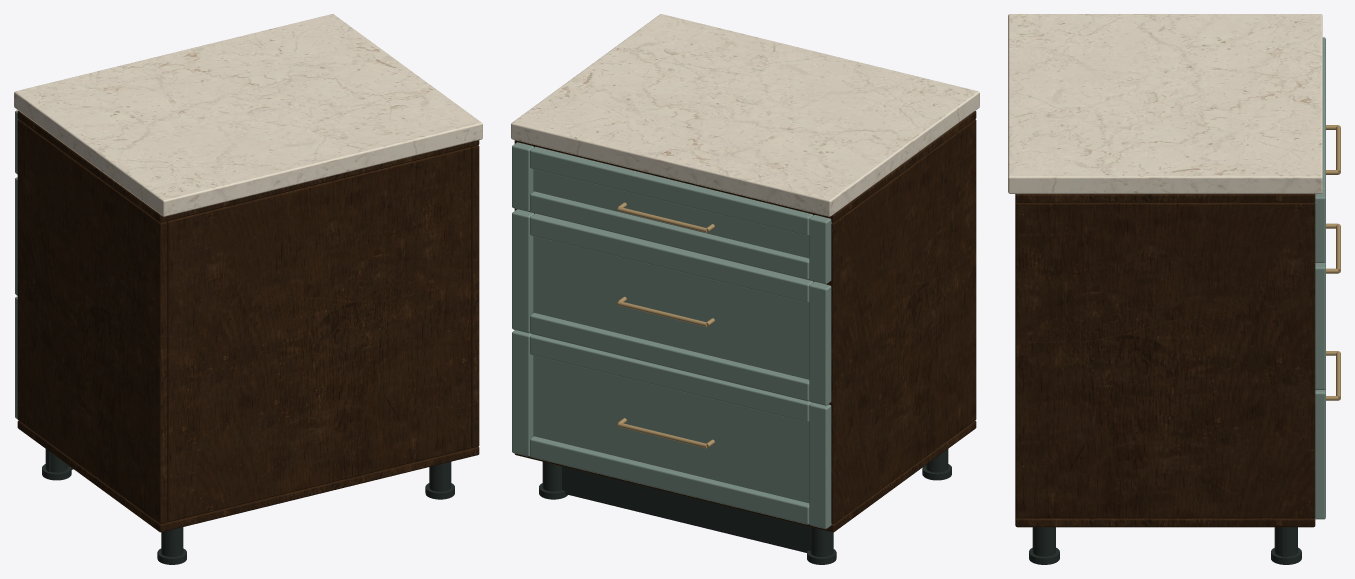
Rendered from cabinet-sage-drawers.glb.
3 renders of one model, left to right at view 1: azimuth 30°, elevation 25°; view 2: azimuth 150°, elevation 25°; view 3: azimuth 270°, elevation 25°, orthographic. The views are drawn at different scales.
Parts seen in each view (by area): view 1: walnut_surfaces, stone_surfaces, dark_surfaces, sage_surfaces; view 2: sage_surfaces, stone_surfaces, walnut_surfaces, dark_surfaces, bronze_surfaces; view 3: walnut_surfaces, stone_surfaces, sage_surfaces, dark_surfaces, bronze_surfaces.
Part boxes in pixels (x1=…): walnut_surfaces: x1=17, y1=111, x2=479, y2=532; stone_surfaces: x1=14, y1=14, x2=482, y2=216; dark_surfaces: x1=42, y1=449, x2=454, y2=564; sage_surfaces: x1=15, y1=110, x2=18, y2=419; sage_surfaces: x1=512, y1=142, x2=831, y2=529; stone_surfaces: x1=511, y1=14, x2=979, y2=216; walnut_surfaces: x1=514, y1=111, x2=976, y2=532; dark_surfaces: x1=539, y1=449, x2=951, y2=564; bronze_surfaces: x1=617, y1=202, x2=714, y2=448; walnut_surfaces: x1=1015, y1=194, x2=1315, y2=527; stone_surfaces: x1=1008, y1=14, x2=1322, y2=193; sage_surfaces: x1=1315, y1=37, x2=1325, y2=519; dark_surfaces: x1=1029, y1=527, x2=1301, y2=564; bronze_surfaces: x1=1326, y1=125, x2=1340, y2=400.
Bounding box in the file's own units: 0.8 × 0.9 × 0.6875.
7 materials, 3 textured.
